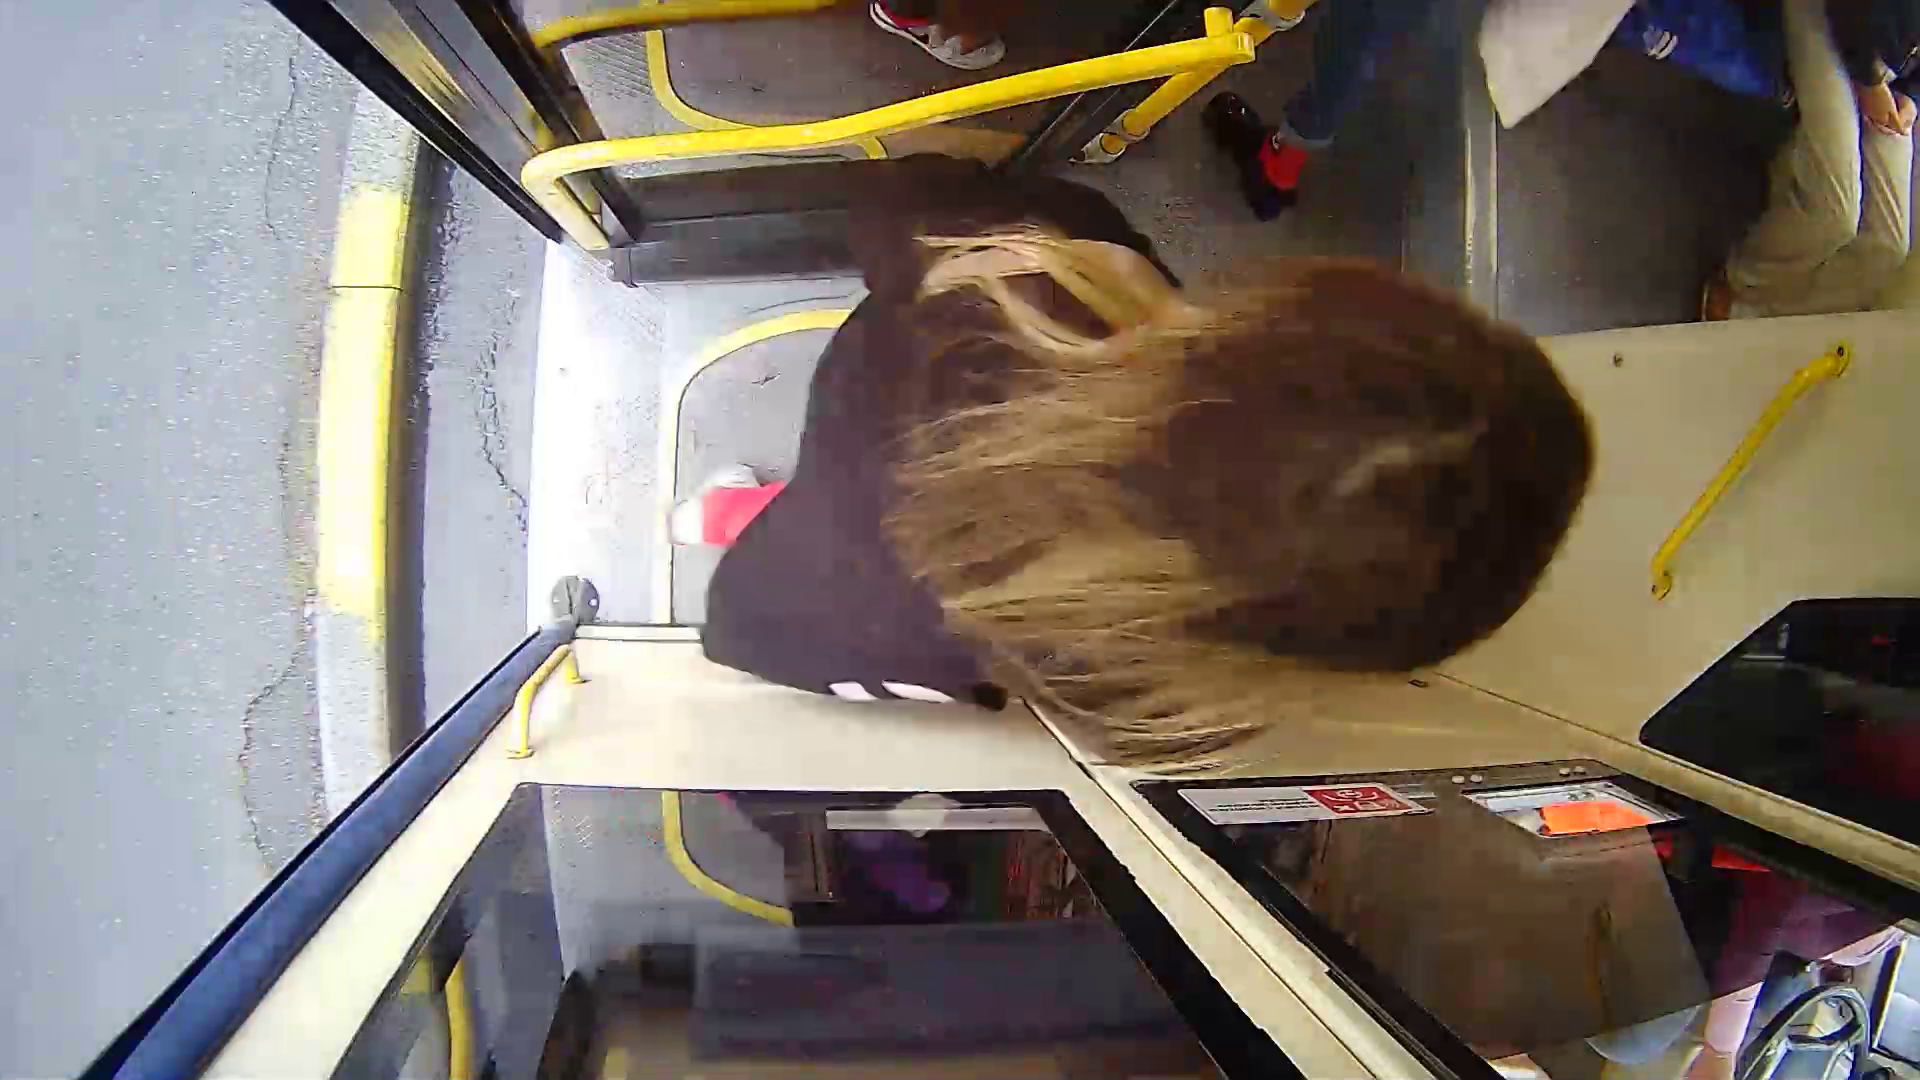person: (696, 204, 1566, 778)
